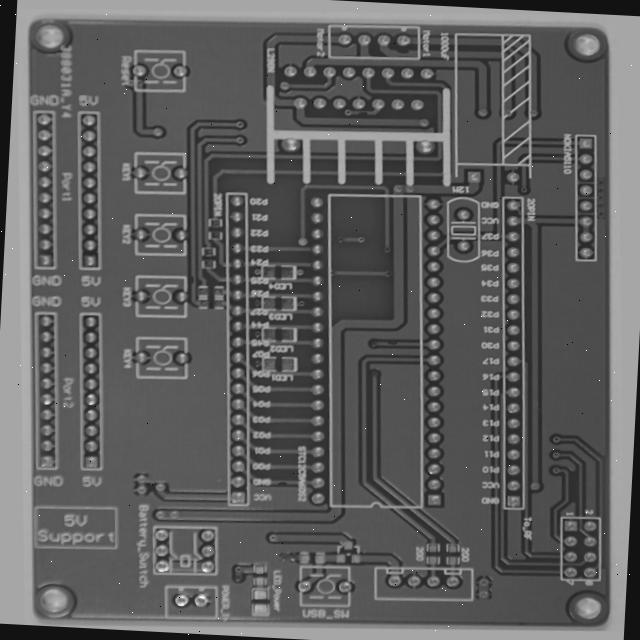mouse_bite: (413, 38, 437, 54), (257, 482, 279, 495), (368, 101, 387, 116), (178, 264, 192, 282), (385, 341, 403, 353)
